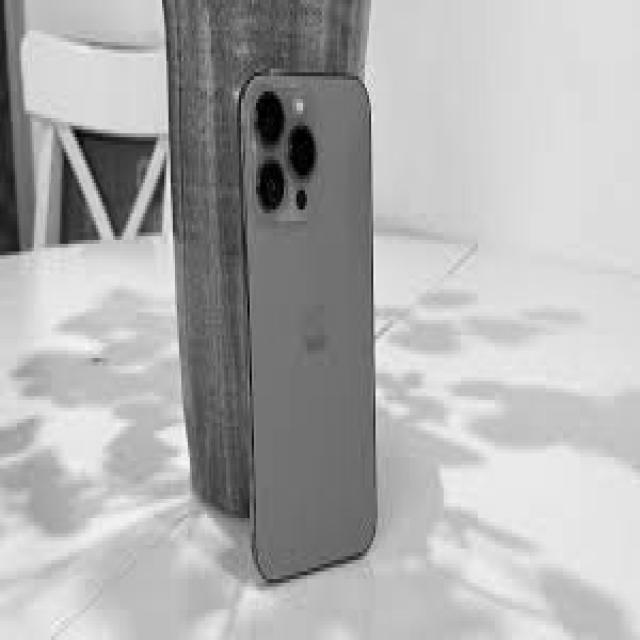No gun_phone: (235, 69, 379, 583)
